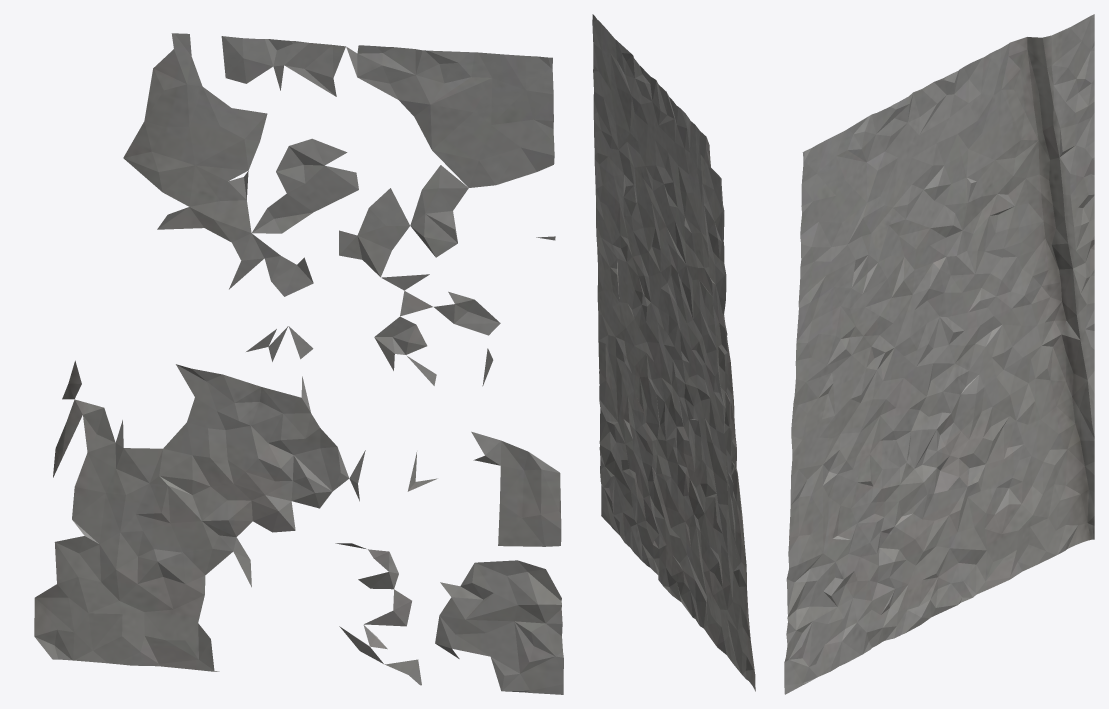
3 renders of one model, left to right at view 1: azimuth 30°, elevation 25°; view 2: azimuth 150°, elevation 25°; view 3: azimuth 270°, elevation 25°, orthographic. The views are drawn at different scales.
Size of the model in its own units: 0.5146 by 0.8374 by 0.4342.
2 materials, 2 textured.
